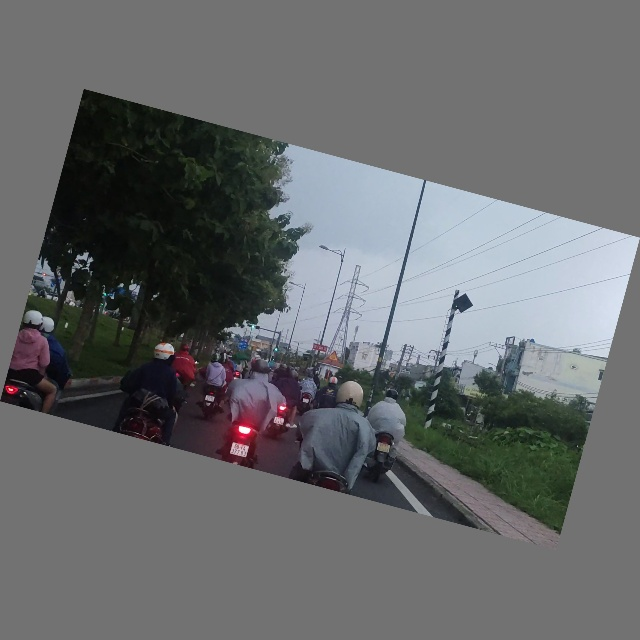W.210: (327, 350, 341, 363)
